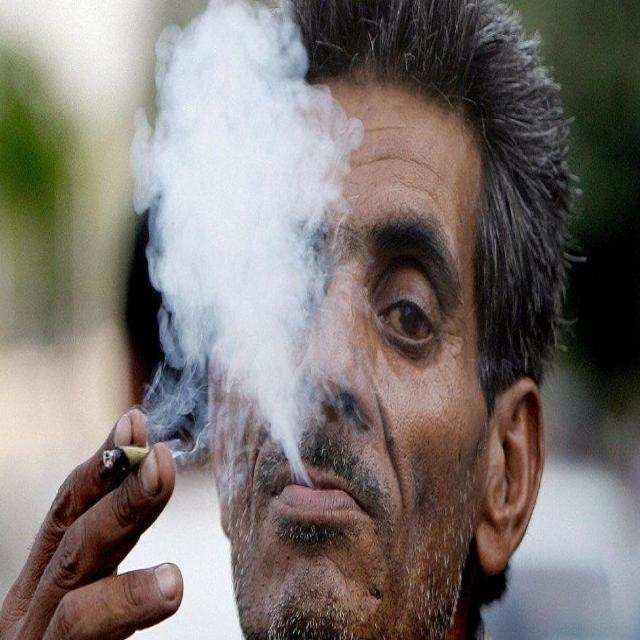Дым: (162, 5, 340, 462)
Сигарета: (102, 445, 152, 470)
Тело: (210, 10, 548, 640)
